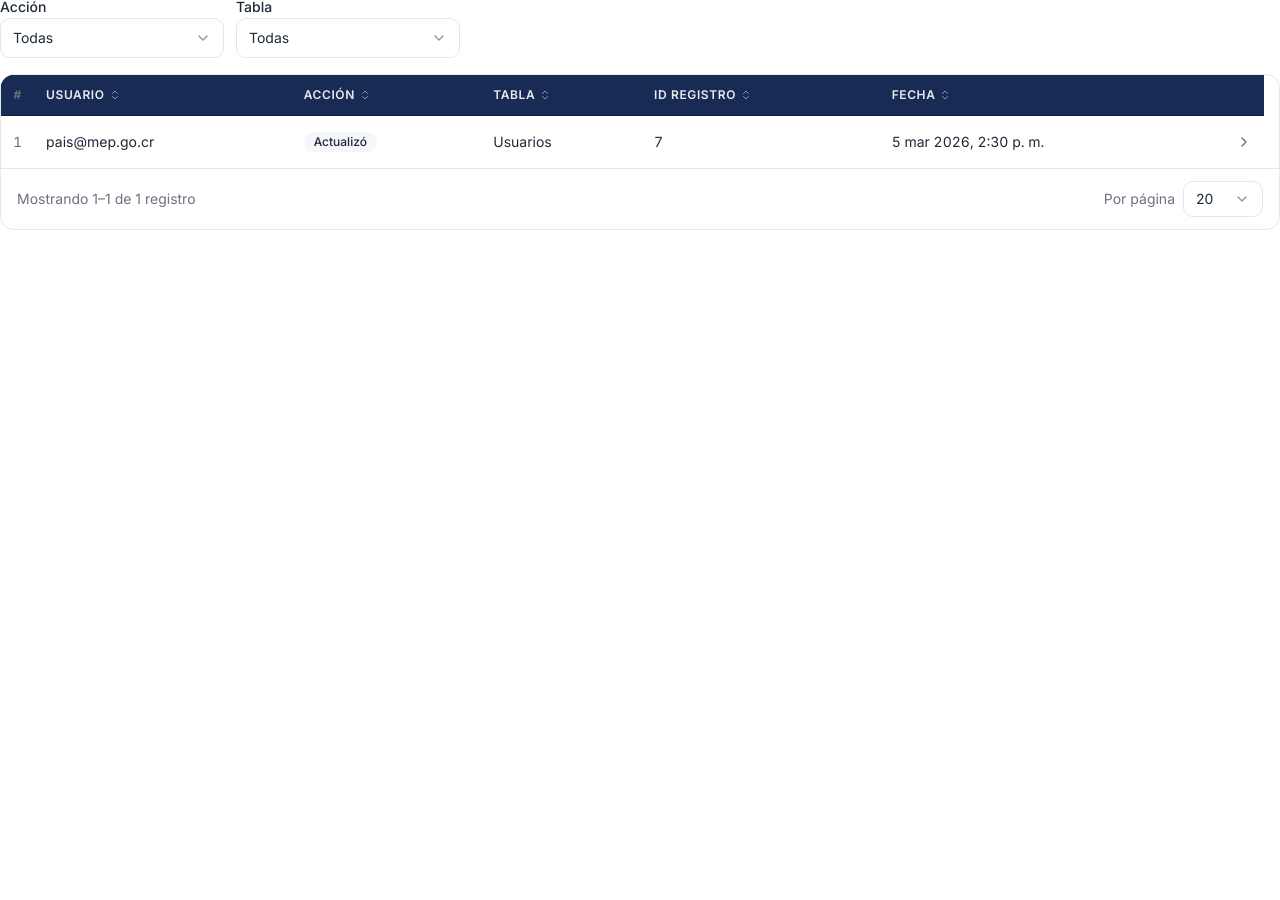
Test: Auditoría › compara campo por campo antes y después
The width and height of the screenshot is (1280, 900).
Click the text "pais@mep.go.cr".
click(100, 141)  # box [34,115,292,168]
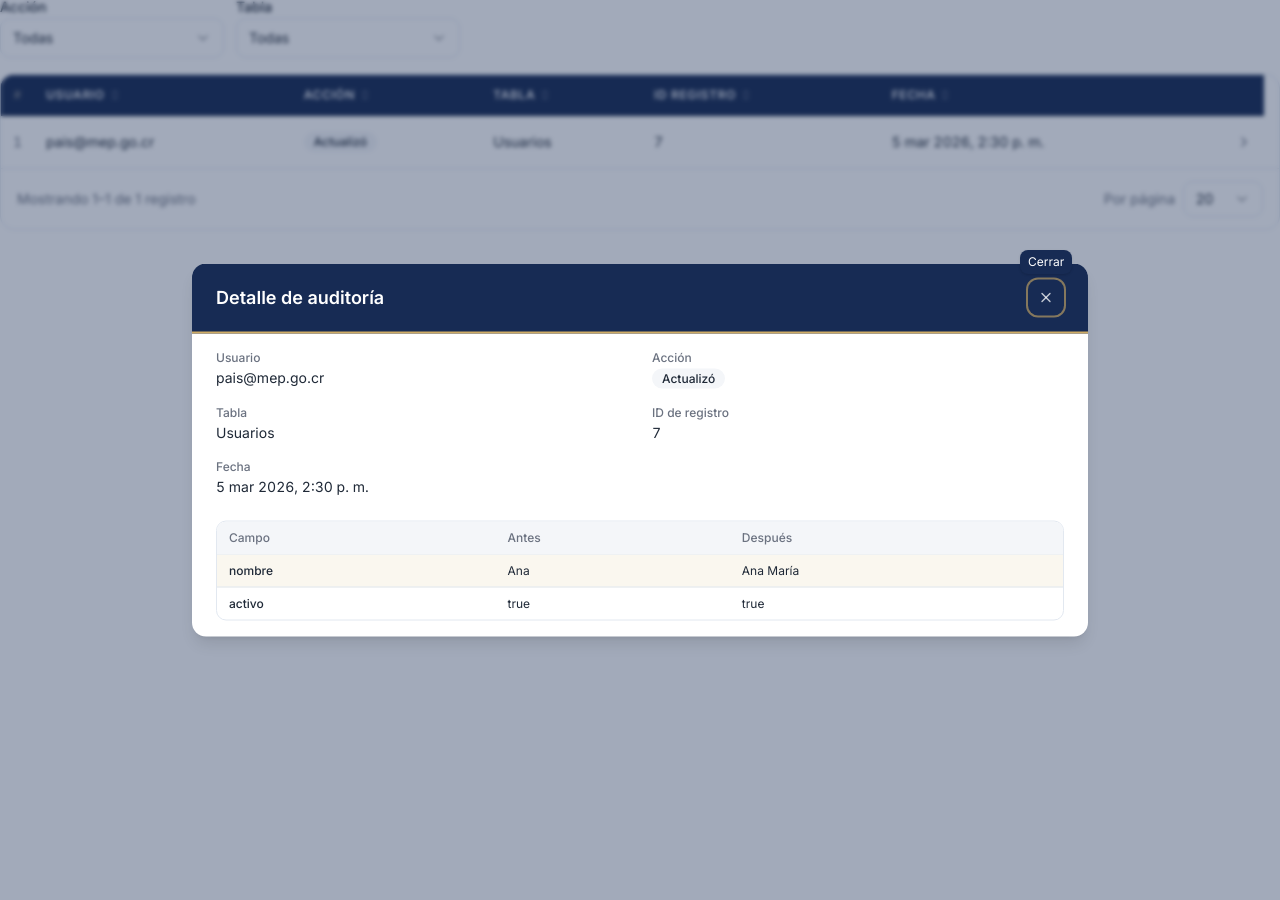
Expected: the column heading "nombre" is shown, [217,554,496,587]
Expected: the text "Ana María" is shown, [730,554,1063,587]
